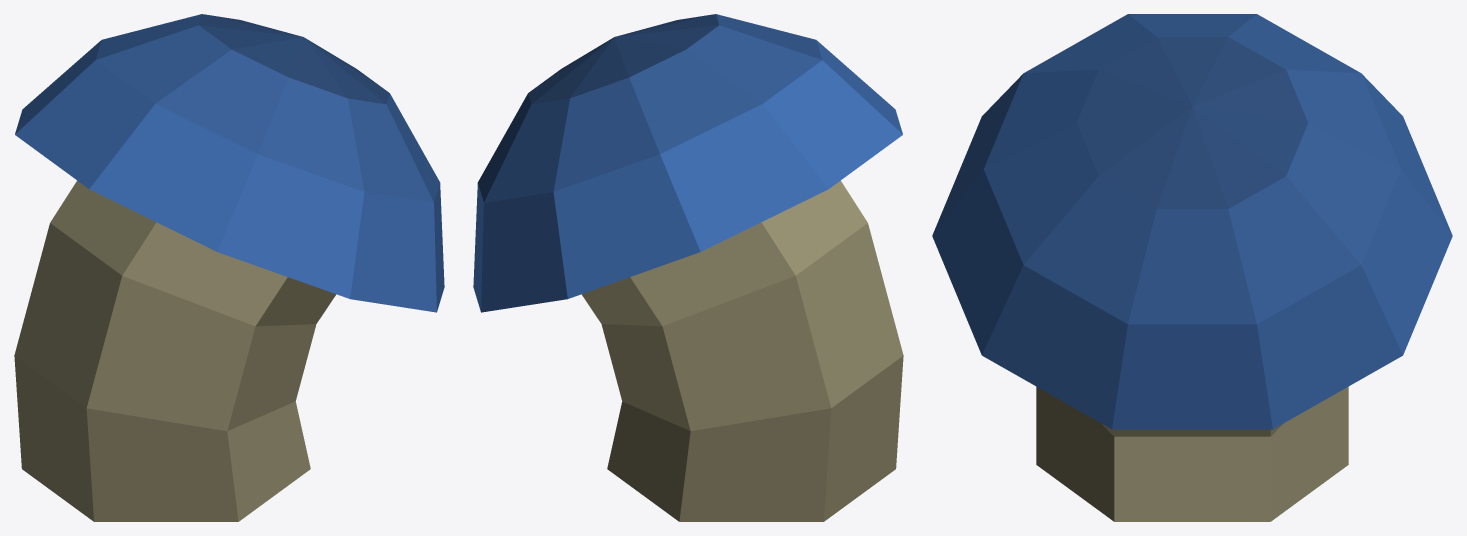
Rendered from Mushroom_3_Blue.fbx.
3 views of the same model, side by side, from view 1: azimuth 30°, elevation 25°; view 2: azimuth 150°, elevation 25°; view 3: azimuth 270°, elevation 25° (orthographic). The views are drawn at different scales.
Visible parts, largest first — view 1: Mushroom_3_Blue; view 2: Mushroom_3_Blue; view 3: Mushroom_3_Blue.
Part boxes in pixels (bbox=[...]): Mushroom_3_Blue: bbox=[14, 14, 444, 521]; Mushroom_3_Blue: bbox=[473, 14, 903, 521]; Mushroom_3_Blue: bbox=[932, 14, 1452, 521].
Size of the model in its own units: 57.52 by 64.13 by 66.69.
